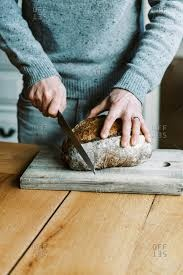knife: (55, 108, 96, 176)
